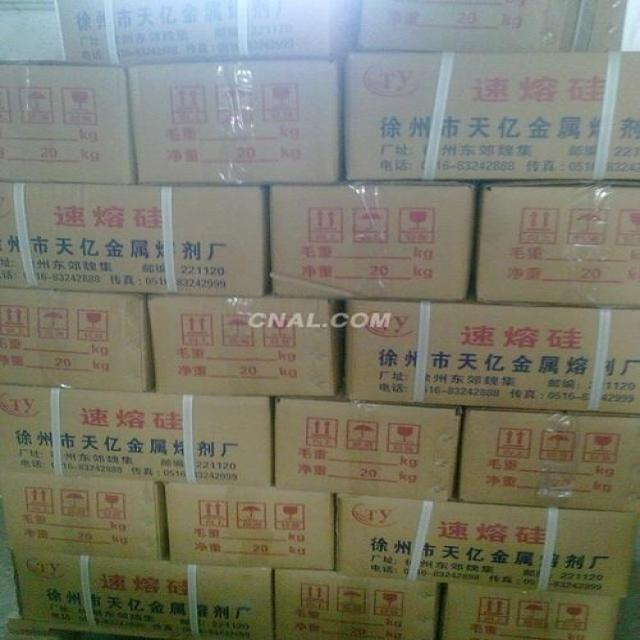box: (344, 50, 639, 184), (337, 299, 639, 419), (0, 181, 272, 296), (336, 493, 637, 595), (127, 58, 345, 185), (0, 385, 276, 484), (268, 184, 473, 303), (12, 551, 275, 639), (469, 183, 639, 309), (274, 397, 460, 502), (58, 3, 363, 67), (144, 298, 338, 397), (456, 407, 639, 511), (0, 62, 140, 188), (158, 479, 338, 572), (0, 285, 151, 391), (0, 472, 165, 559), (356, 2, 626, 51), (273, 568, 437, 637), (436, 584, 620, 638), (6, 607, 256, 639)
